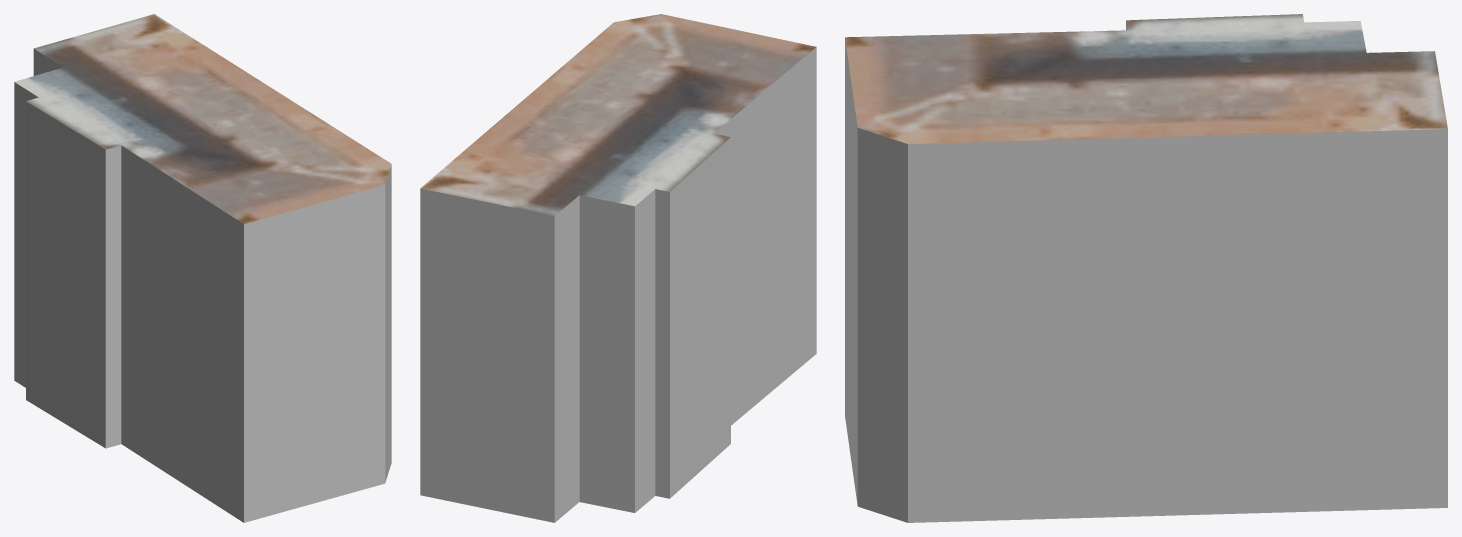
The model's file is DEBW_0010007Tx9H.gltf.
3 renders of one model, left to right at view 1: azimuth 30°, elevation 25°; view 2: azimuth 150°, elevation 25°; view 3: azimuth 270°, elevation 25°, orthographic. The views are drawn at different scales.
Visible parts, largest first — view 1: Z_UP; view 2: Z_UP; view 3: Z_UP.
Boxes of the visible parts, left/top/right/bottom form: Z_UP: left=14, top=14, right=391, bottom=522; Z_UP: left=420, top=14, right=816, bottom=522; Z_UP: left=845, top=14, right=1447, bottom=522.
Size of the model in its own units: 11.14 by 15.13 by 21.82.
2 materials, 1 textured.
